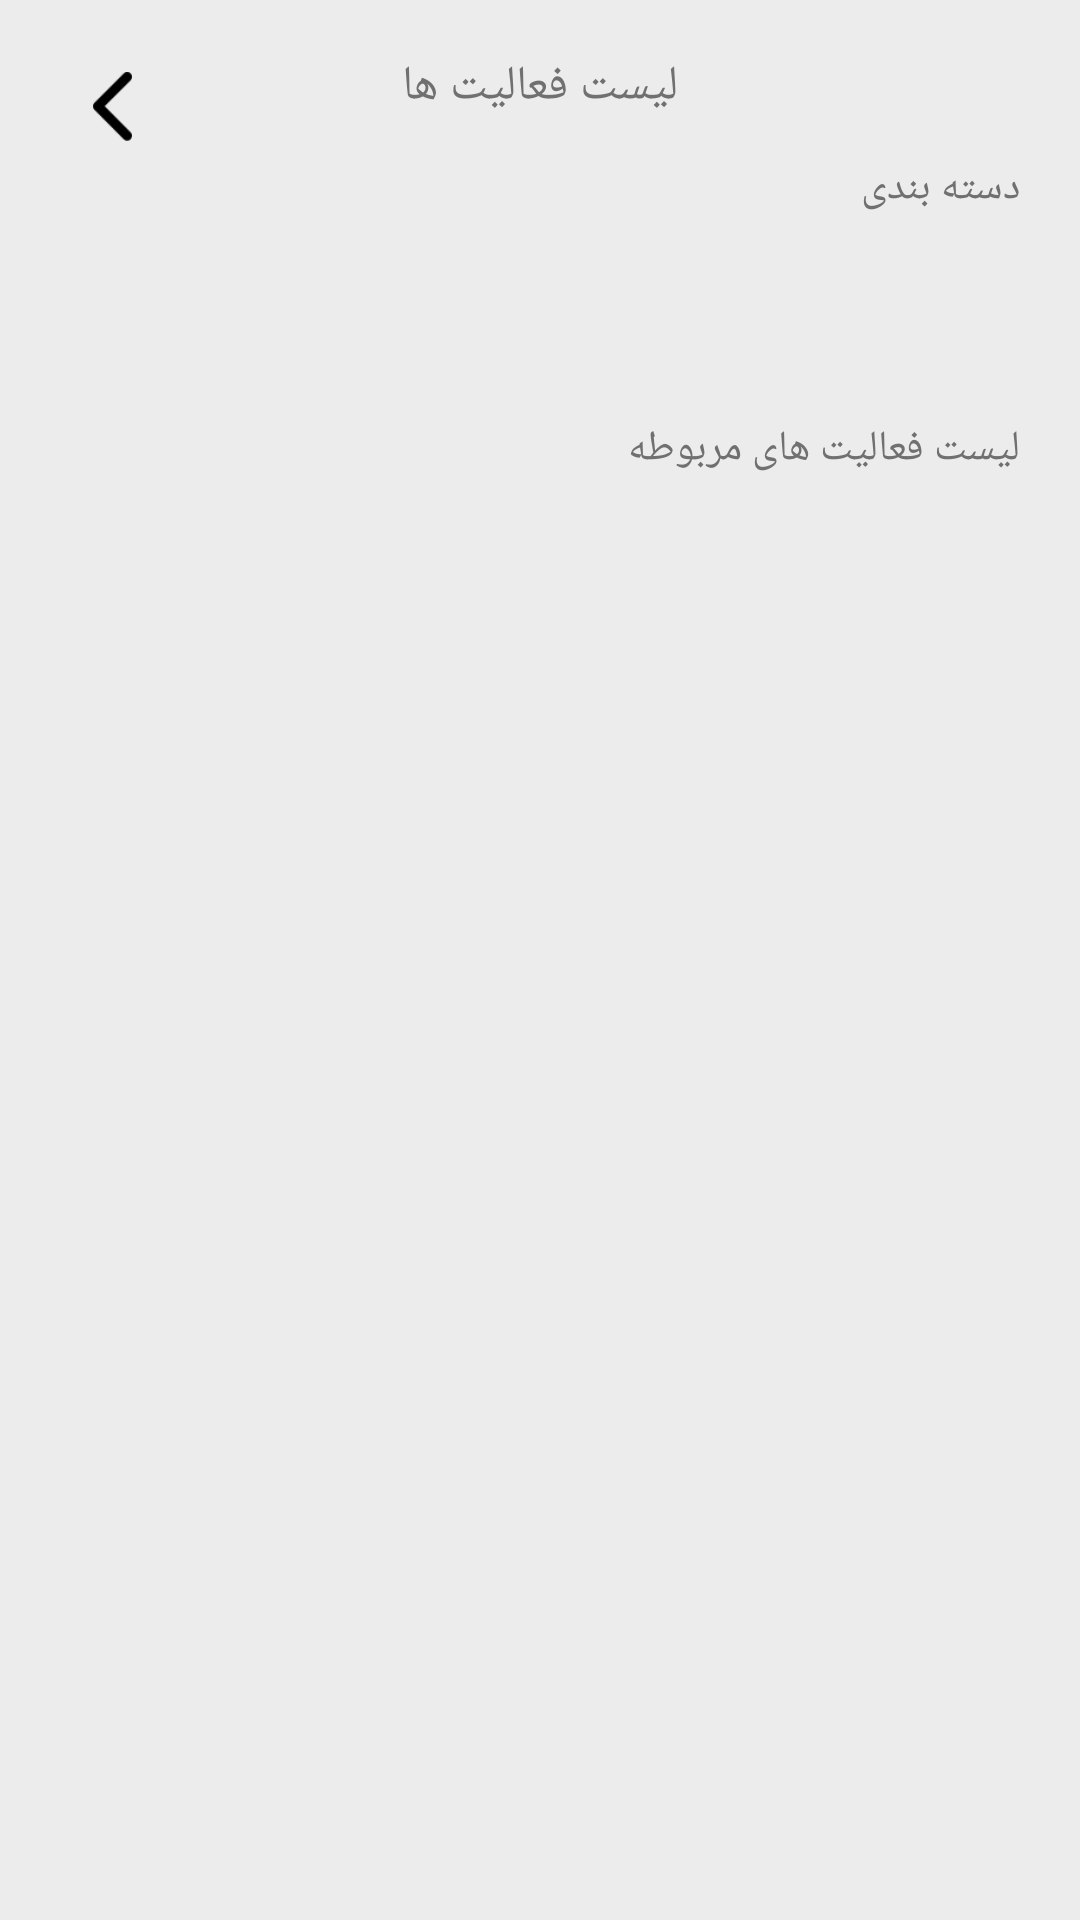

Icons on this 1080px x 1920px Android screen, each with the point to tap as (x,y):
back: (112,106)
